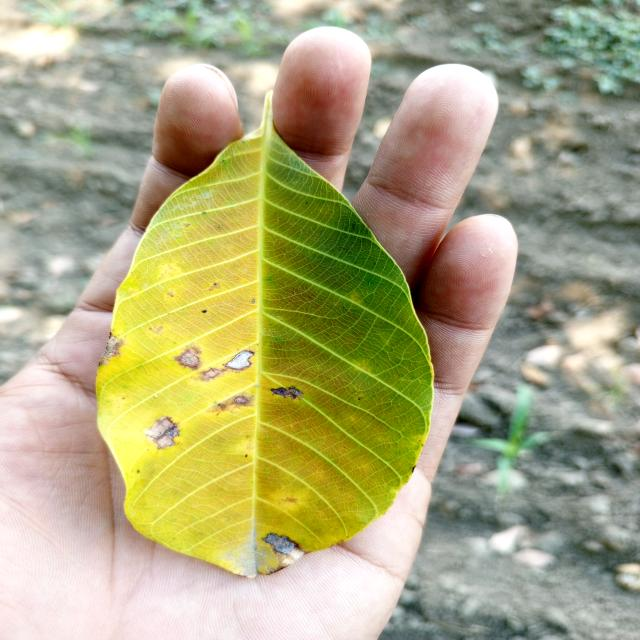Colletotrichum: (202, 310, 206, 313)
Leaf-Blight: (226, 350, 254, 370)
